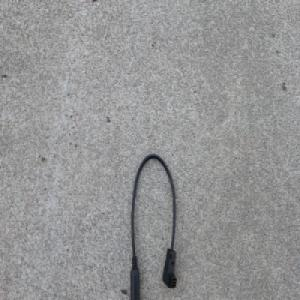Wire: (129, 151, 180, 300)
